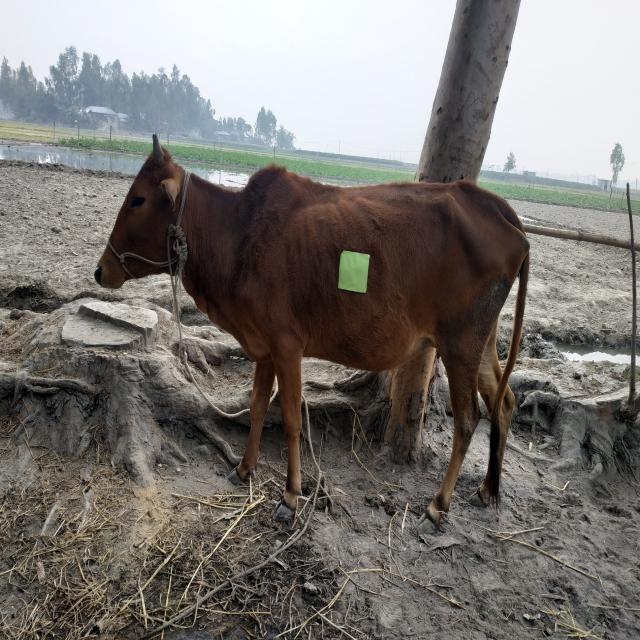badan_sapi: (257, 169, 519, 372)
sapi: (86, 126, 534, 530)
